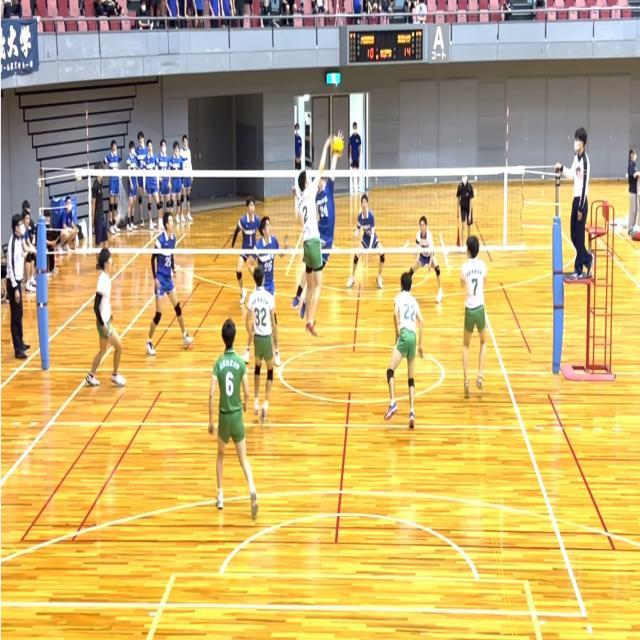spike: (296, 130, 345, 348)
